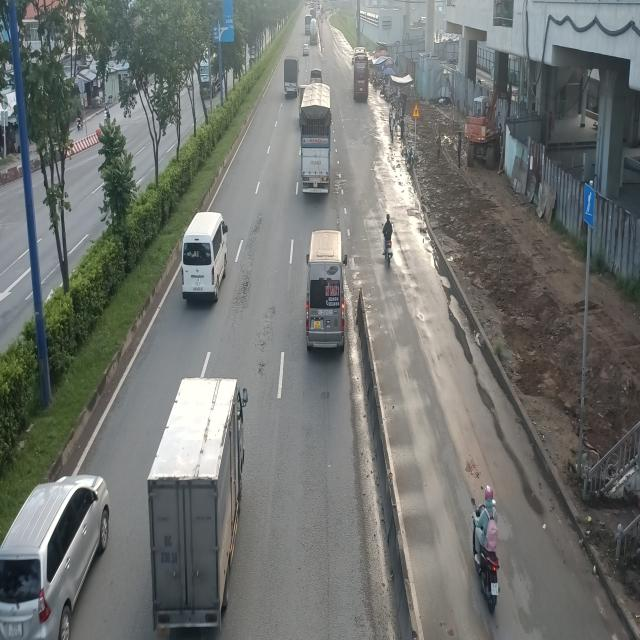car: (0, 473, 105, 640)
coach: (352, 51, 370, 100)
truck: (145, 373, 242, 634), (298, 84, 331, 195), (283, 56, 299, 100)
van: (305, 231, 350, 356), (180, 213, 230, 305)
